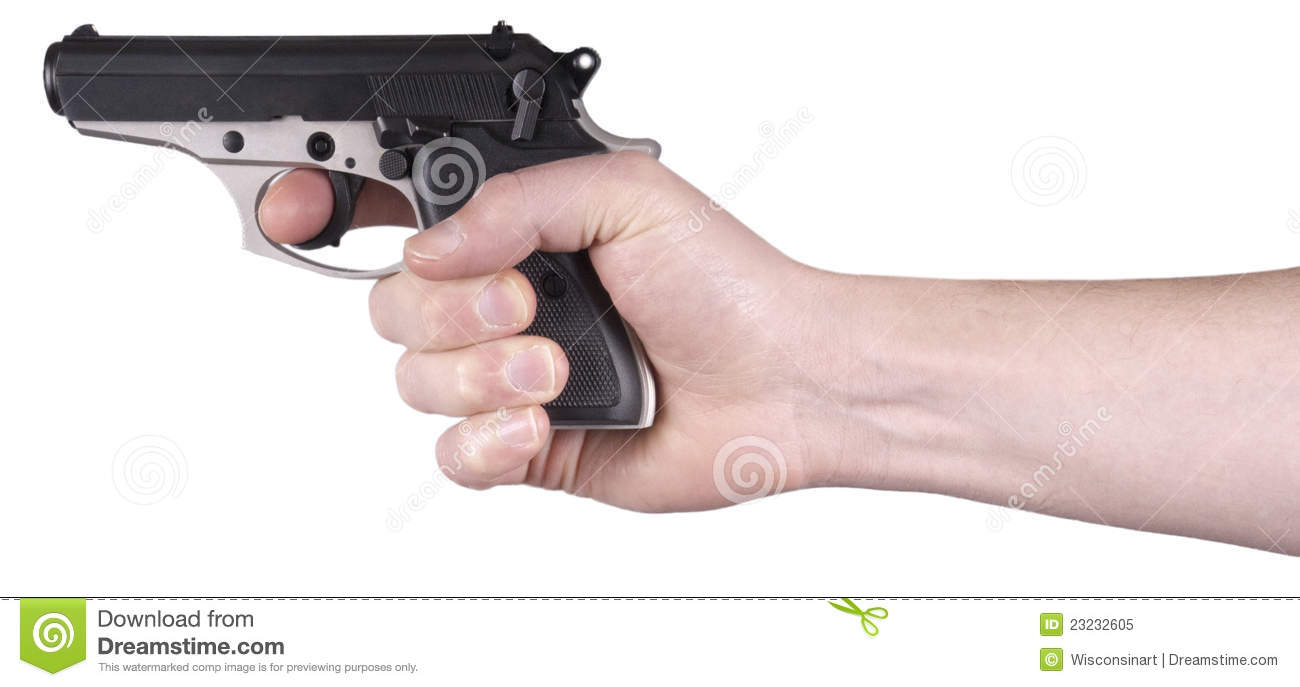pistol: (40, 22, 658, 432)
